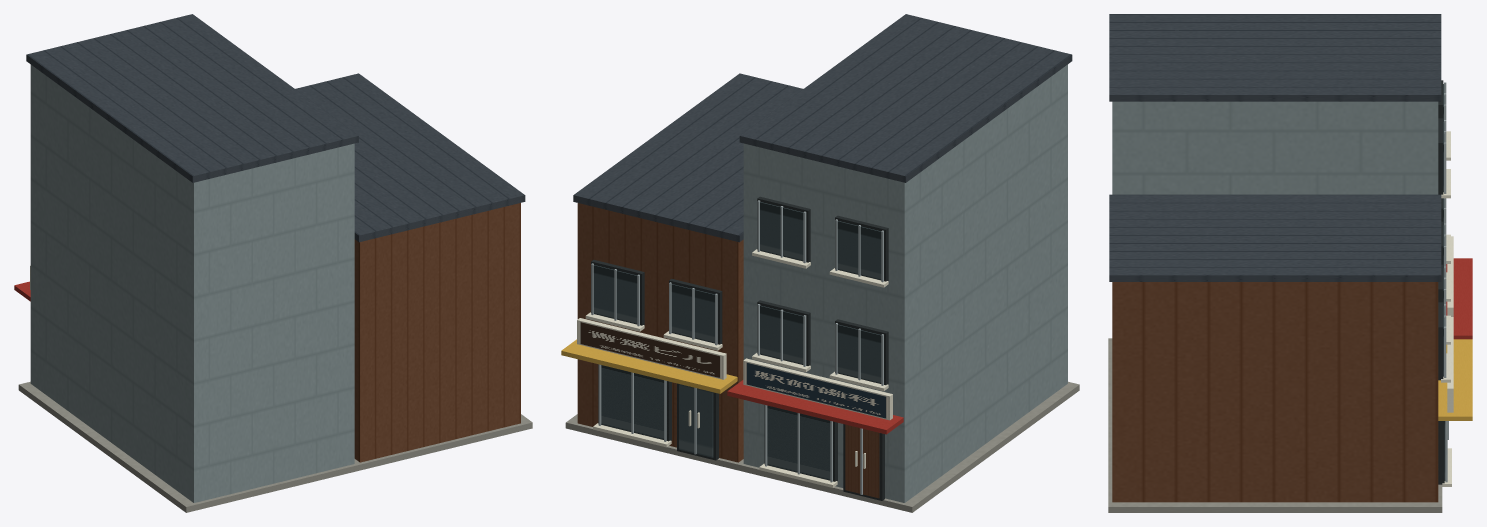
Rendered from shop_010.obj.
3 views of the same model, side by side, from view 1: azimuth 30°, elevation 25°; view 2: azimuth 150°, elevation 25°; view 3: azimuth 270°, elevation 25° (orthographic).
Visible parts, largest first — view 1: shop_010; view 2: shop_010; view 3: shop_010.
Part boxes in pixels (x1,y1,x2,y2): shop_010: (14,14,532,512); shop_010: (561,14,1079,512); shop_010: (1108,14,1472,512).
Size of the model in its own units: 9.8 by 9.04 by 8.94.
1 material, 1 textured.
